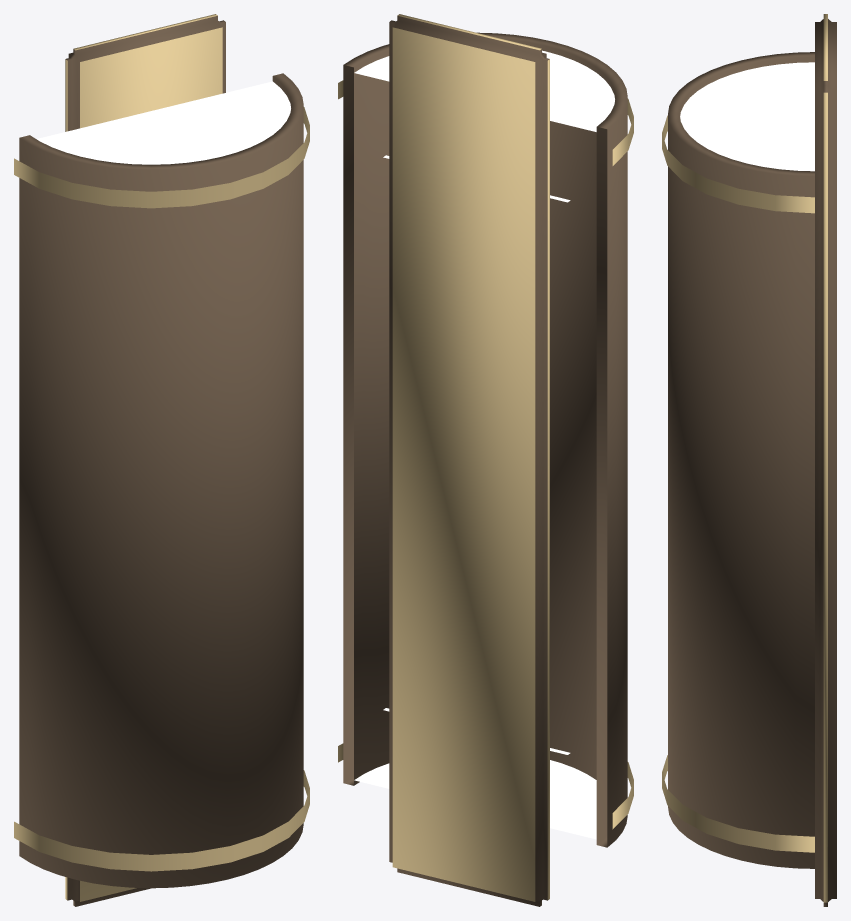
The model's file is applique_cinema.glb.
3 renders of one model, left to right at view 1: azimuth 30°, elevation 25°; view 2: azimuth 150°, elevation 25°; view 3: azimuth 270°, elevation 25°, orthographic. The views are drawn at different scales.
Visible parts, largest first — view 1: applique_cinema, applique_cinema_luce; view 2: applique_cinema, applique_cinema_luce; view 3: applique_cinema, applique_cinema_luce.
Boxes of the visible parts, x1,y1,x2,y2 form: applique_cinema: (14,14,309,906); applique_cinema_luce: (36,81,290,164); applique_cinema: (338,14,633,906); applique_cinema_luce: (354,50,614,839); applique_cinema: (662,14,836,906); applique_cinema_luce: (680,62,814,171).
Size of the model in its own units: 0.208 by 0.62 by 0.119.
